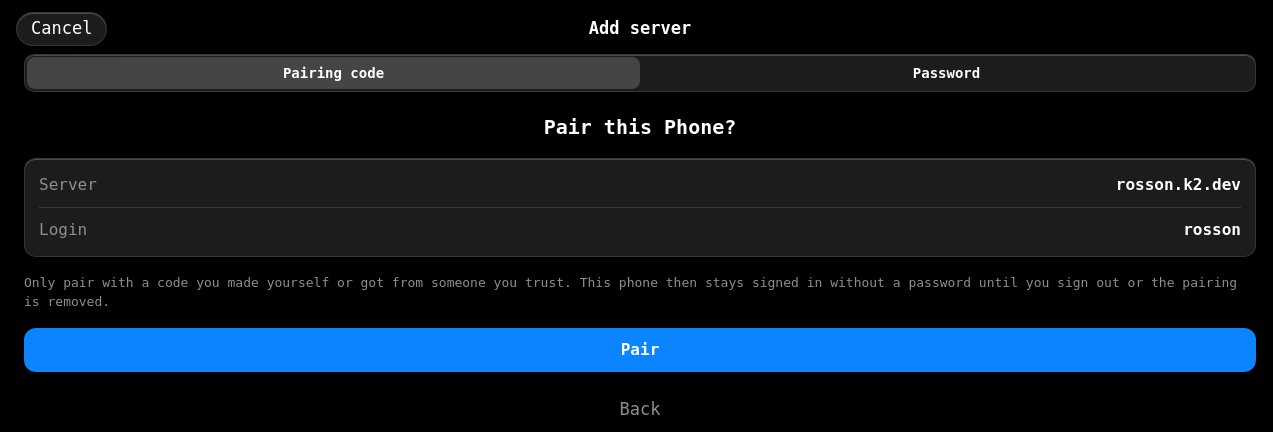
Test case: pairing › Paired names the computer when the server sends serverName (0.46.6)
This screenshot has width=1273, height=432.
Click the button with test id "pair-confirm-button" at (640, 350), box top-left (24, 328), bottom-right (1256, 372)
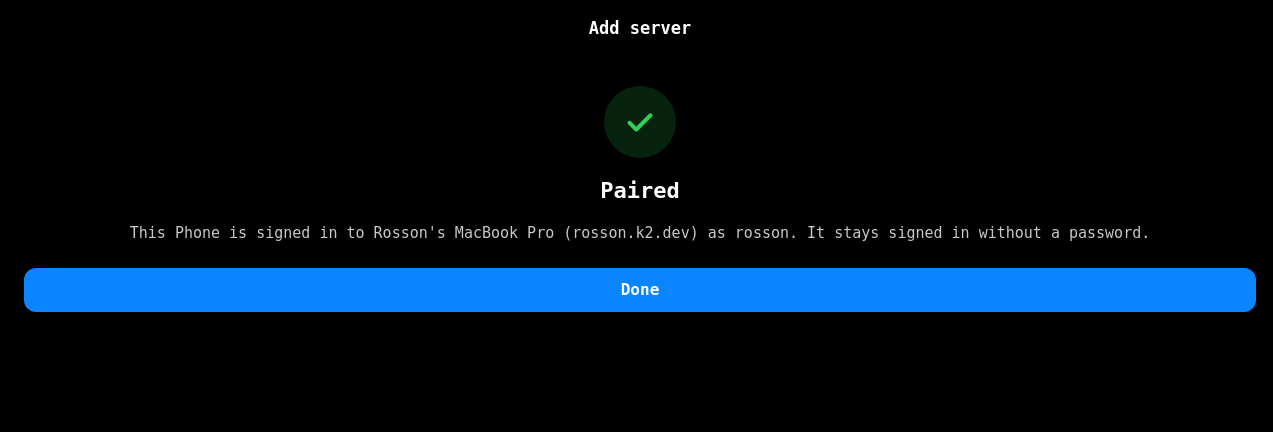
Check: the text with test id "pair-success-text" shows "signed in to Rosson's MacBook Pro (rosson.k2.dev) as rosson", box top-left (130, 223), bottom-right (1150, 244)
